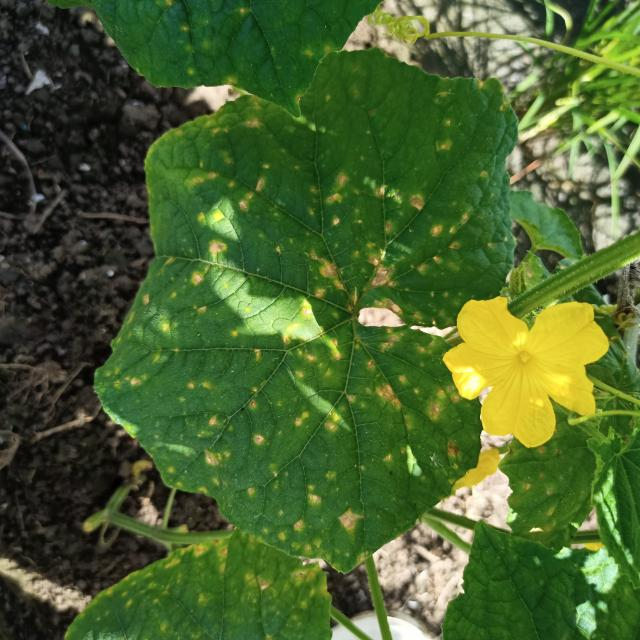disease_cucumber: (110, 74, 513, 540)
